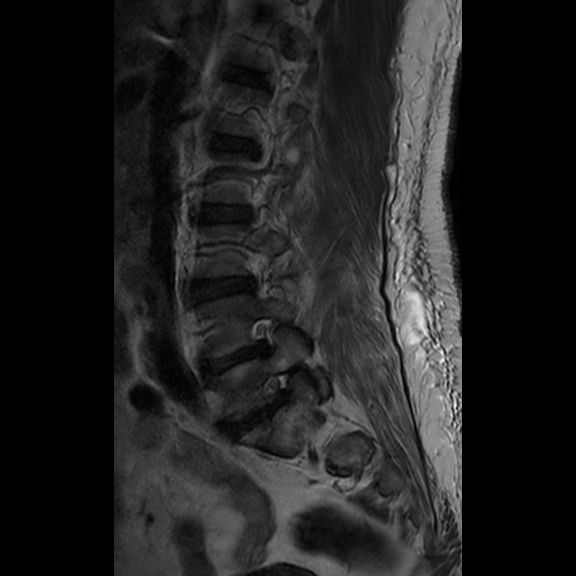RFS1: (245, 307, 285, 366)
